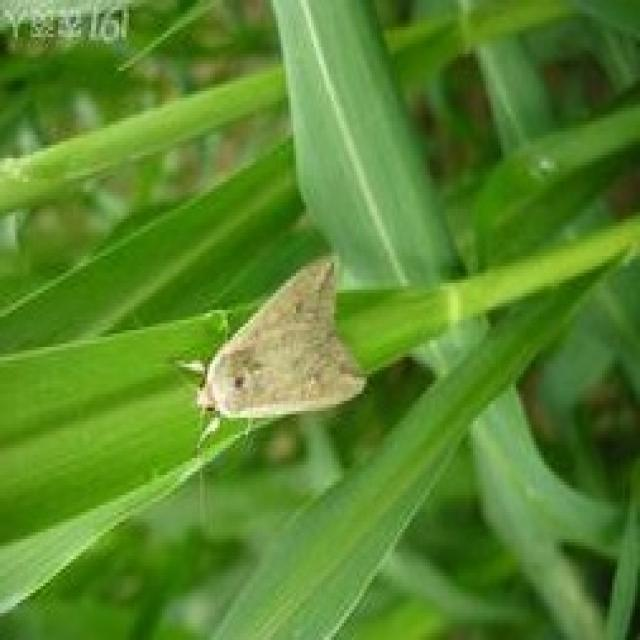army worm: (187, 245, 372, 437)
